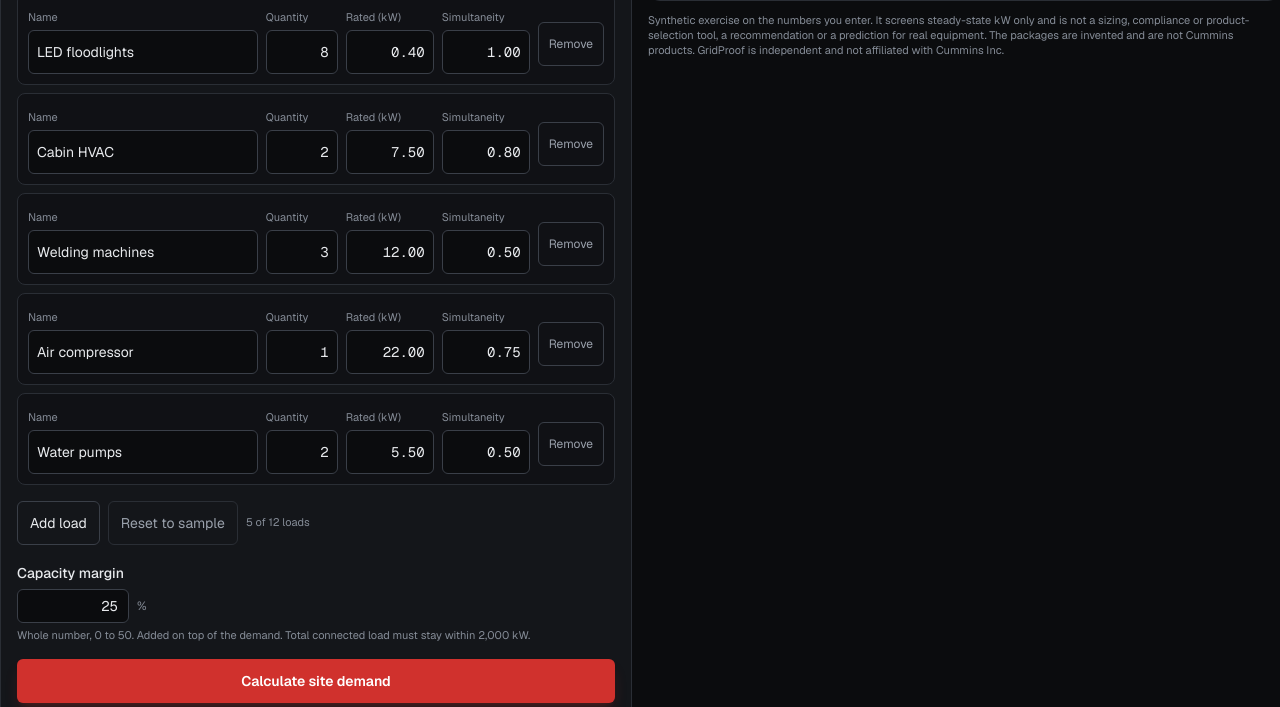
Test case: Mobile-Site Power Planner: results › explains visibly when a requirement displays equal to the rating but still fails
(page scrolled)
Click the button "Calculate site demand" at (316, 681), box 17,659 -> 615,703
(page scrolled)
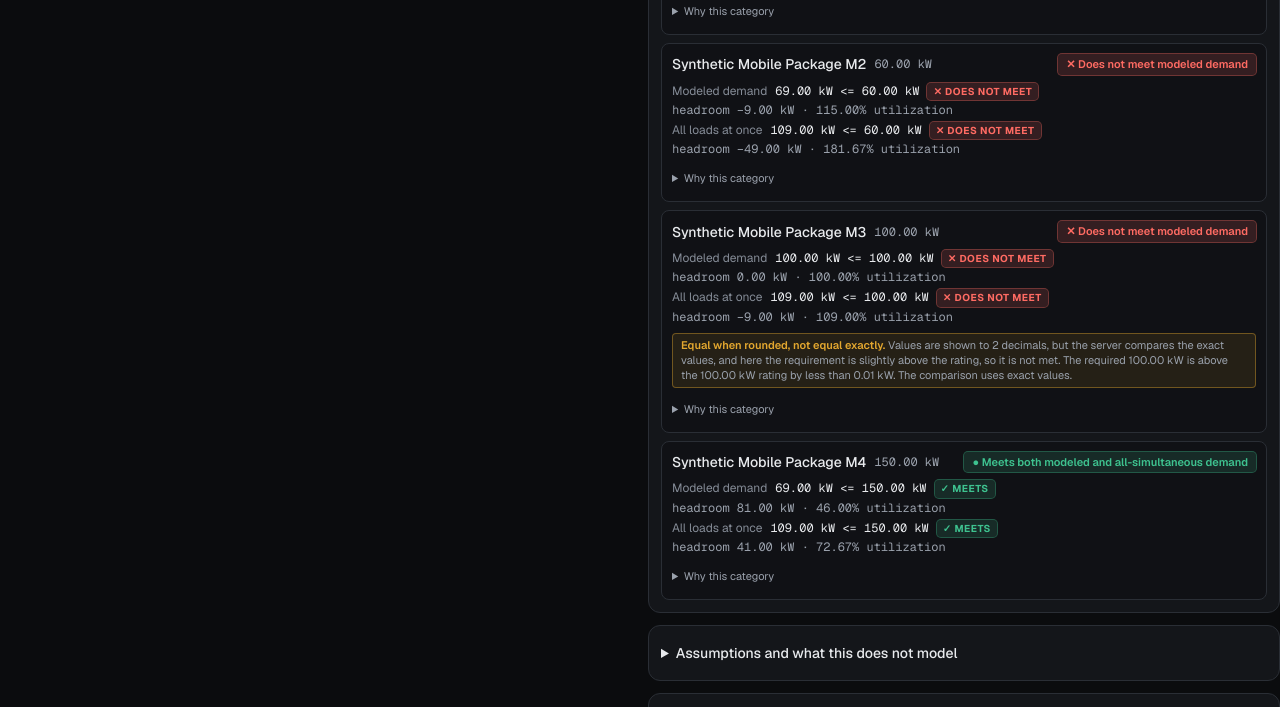
Result: the text "100.00 kW <= 100.00 kW" is shown at 775,250 -> 934,266
Result: the text "Does not meet" is shown 2 times at 942,250 -> 1053,267; 937,289 -> 1048,306
Result: the element with test id "rounded-tie-mobile-m3" shows "Equal when rounded, not equal exactly." at 681,338 -> 885,352
